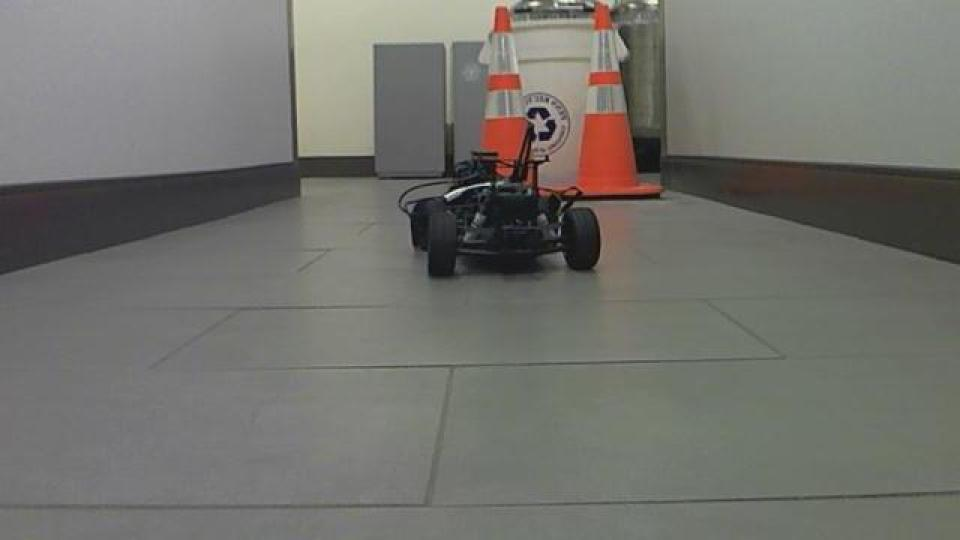car: (396, 120, 604, 280)
